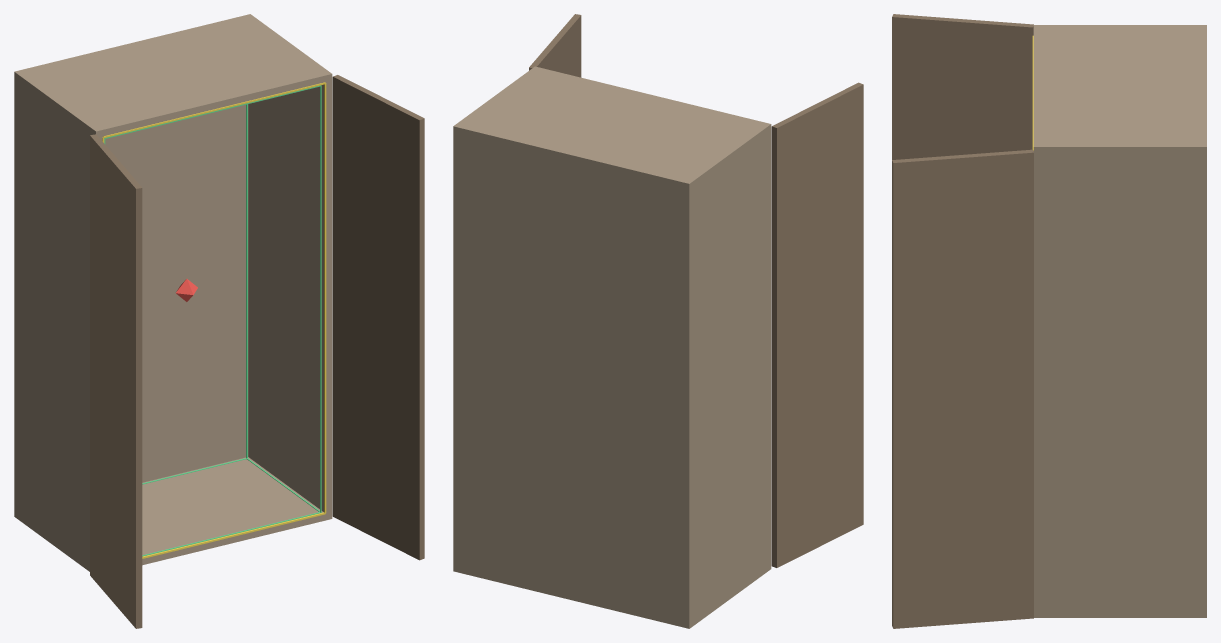
The model's file is HakoOnna_Pose_YofukuTansu.glb.
3 renders of one model, left to right at view 1: azimuth 30°, elevation 25°; view 2: azimuth 150°, elevation 25°; view 3: azimuth 270°, elevation 25°, orthographic. The views are drawn at different scales.
Parts seen in each view (by area): view 1: Shell, Open_Doors, SafeZone_1.5cm, Opening; view 2: Shell, Open_Doors; view 3: Shell, Open_Doors.
Boxes of the visible parts, x1,y1,x2,y2 form: Shell: (14, 14, 332, 571); Open_Doors: (90, 75, 424, 628); SafeZone_1.5cm: (104, 85, 321, 556); Opening: (102, 82, 326, 558); Shell: (453, 66, 771, 628); Open_Doors: (529, 14, 863, 567); Shell: (1033, 25, 1206, 617); Open_Doors: (892, 14, 1033, 628).
Size of what is drawn, in the model's own units: 1.53 by 2.25 by 1.36.
